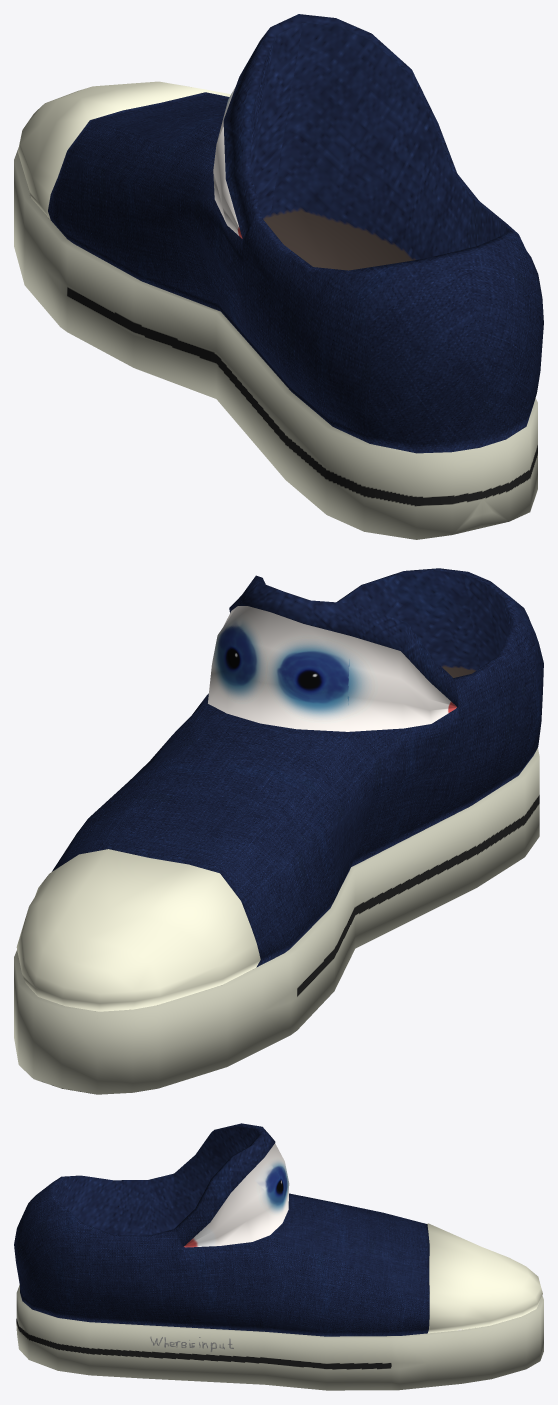
Rendered from Sneakers-model.fbx.
3 views of the same model, one above another, from view 1: azimuth 30°, elevation 25°; view 2: azimuth 150°, elevation 25°; view 3: azimuth 270°, elevation 25° (orthographic). The views are drawn at different scales.
Visible parts, largest first — view 1: Sneakers; view 2: Sneakers; view 3: Sneakers.
Part boxes in pixels (bbox=[...]): Sneakers: bbox=[14, 14, 543, 539]; Sneakers: bbox=[14, 568, 543, 1094]; Sneakers: bbox=[14, 1123, 543, 1390].
Bounding box in the file's own units: 306 × 139 × 104.
